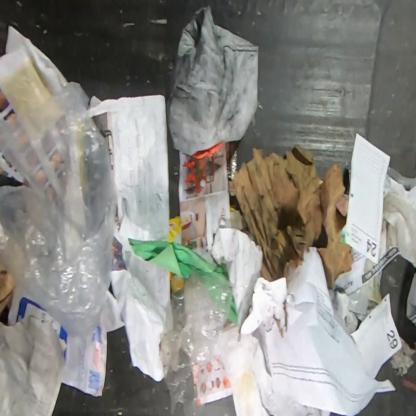cardboard: (0, 259, 17, 316)
soft_plastic: (0, 82, 117, 337), (162, 268, 235, 414)
